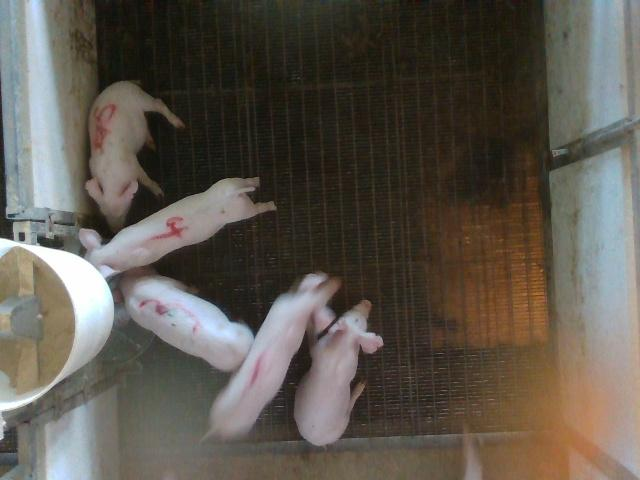pig-1: (205, 272, 341, 439)
pig-3: (120, 268, 254, 371)
pig-4: (79, 178, 275, 277)
pig-5: (86, 81, 184, 232)
